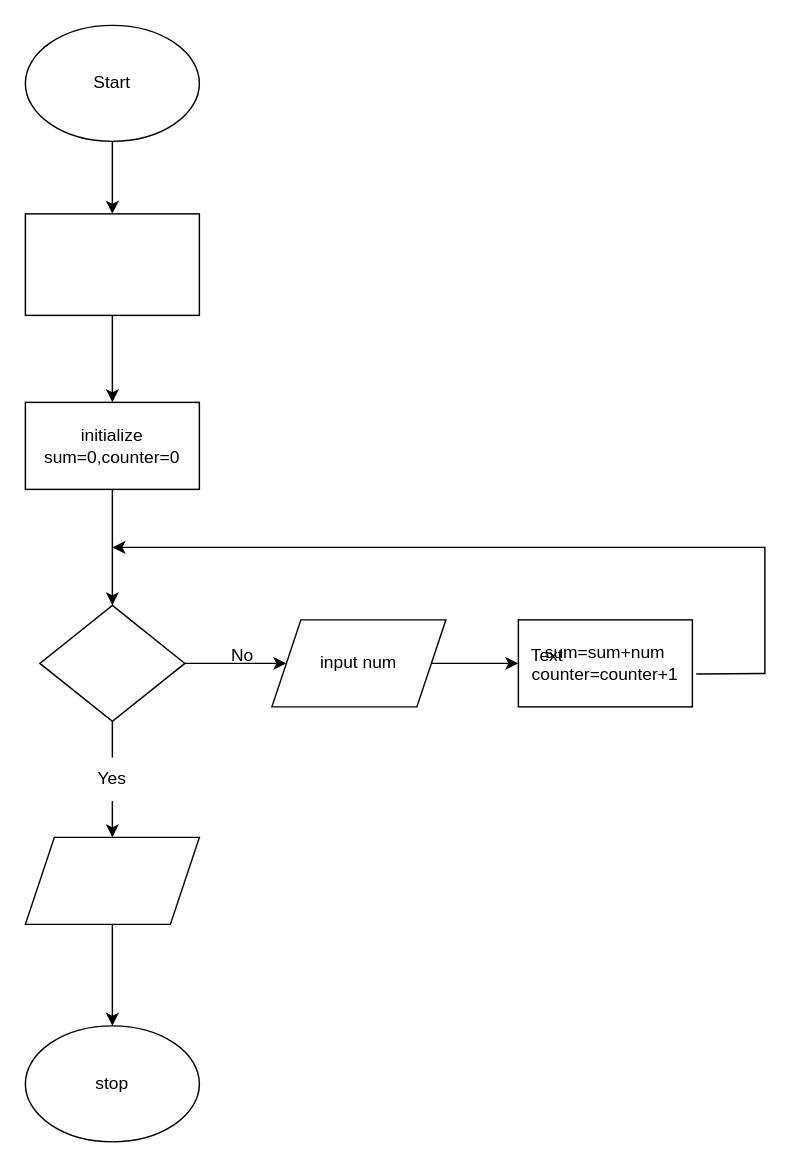
This 802x1167 diagram has some shape labels left out. Here are the shapes that lost their labels. From the top down, the centre of each, then its label:
At point 111,263: "Declare variables Num,counter&sum".
At point 111,662: "counter=10".
At point 111,880: "output sum/10".
